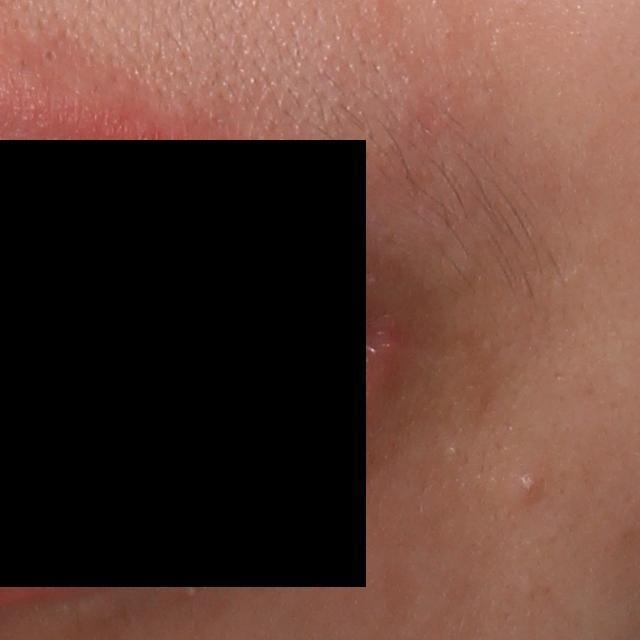comedo: (509, 465, 543, 499), (42, 46, 58, 64)
